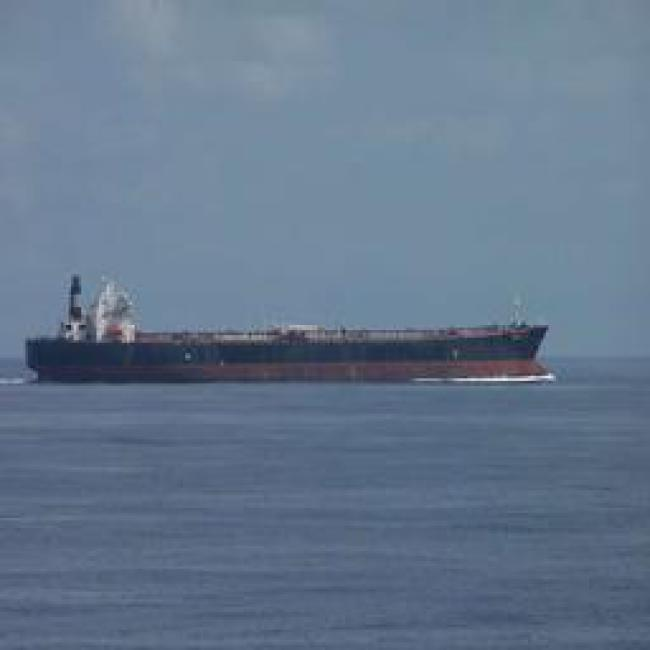Ship: (16, 272, 562, 382)
